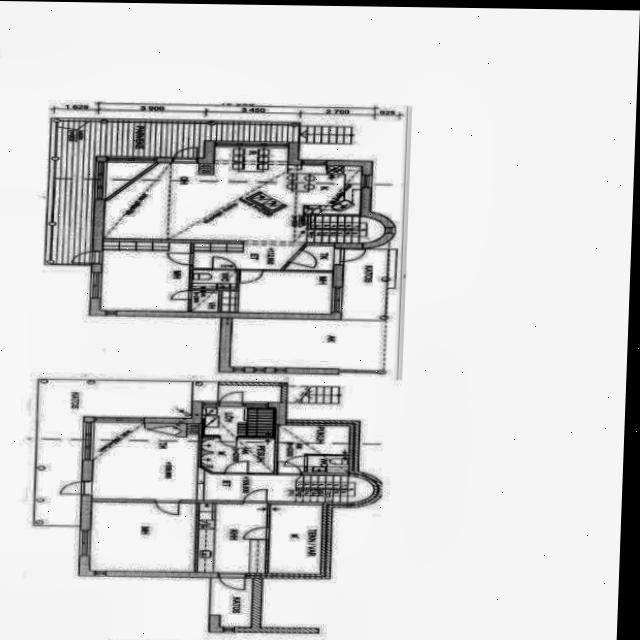room: (90, 501, 196, 571), (101, 241, 190, 310), (198, 500, 267, 573), (238, 270, 332, 313), (268, 502, 322, 574), (277, 424, 349, 473), (201, 437, 275, 472), (202, 406, 276, 436), (285, 244, 334, 270), (192, 269, 236, 288), (308, 455, 348, 472), (191, 289, 219, 311)
